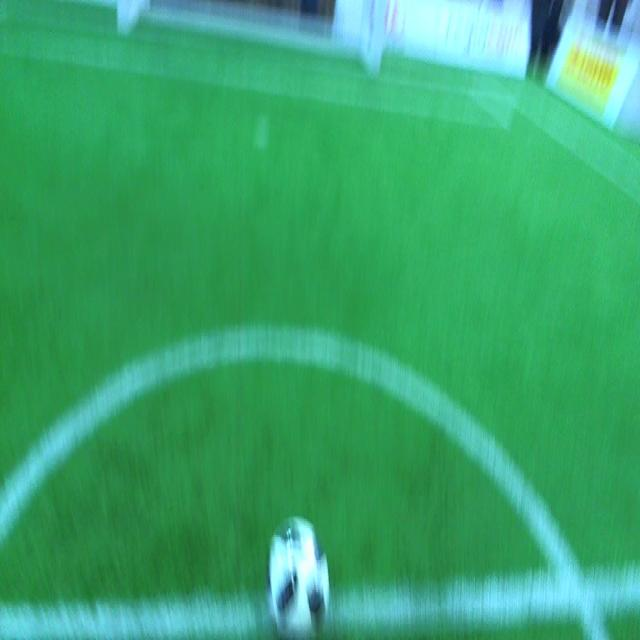ball: (263, 519, 330, 640)
goalpost: (367, 0, 389, 76), (115, 2, 132, 36)
